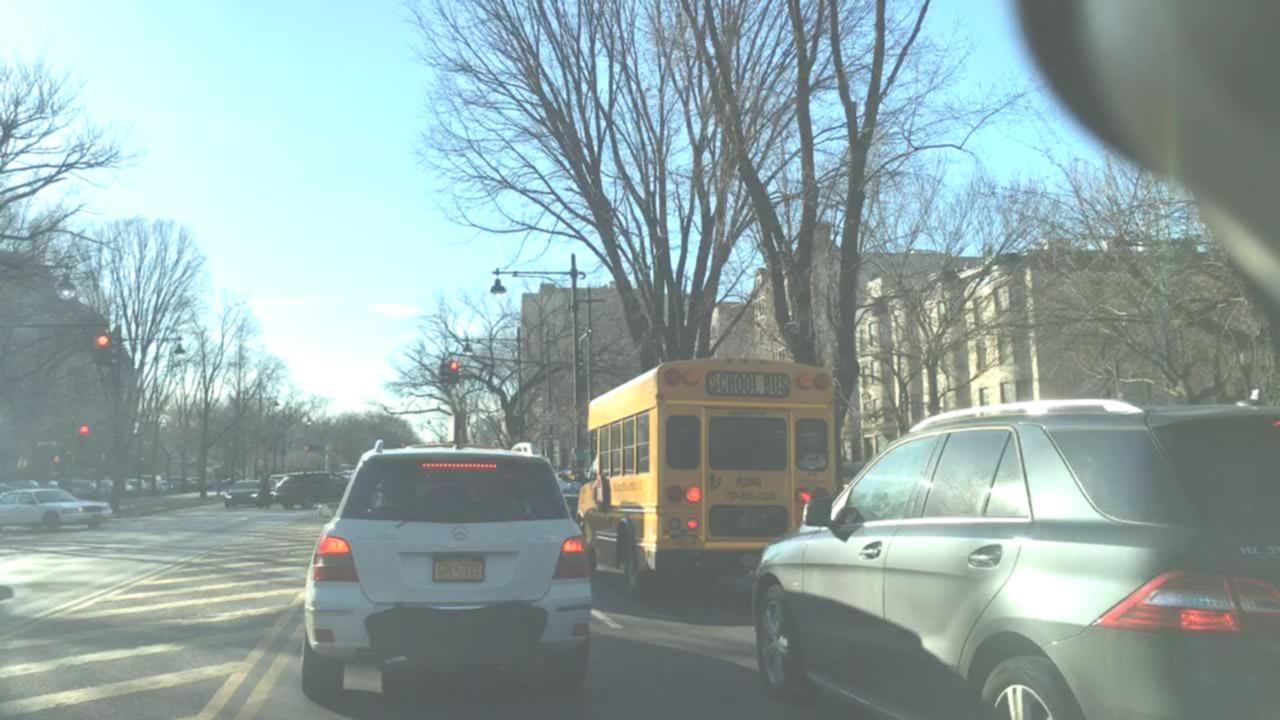Mercedes: (445, 519, 471, 542)
